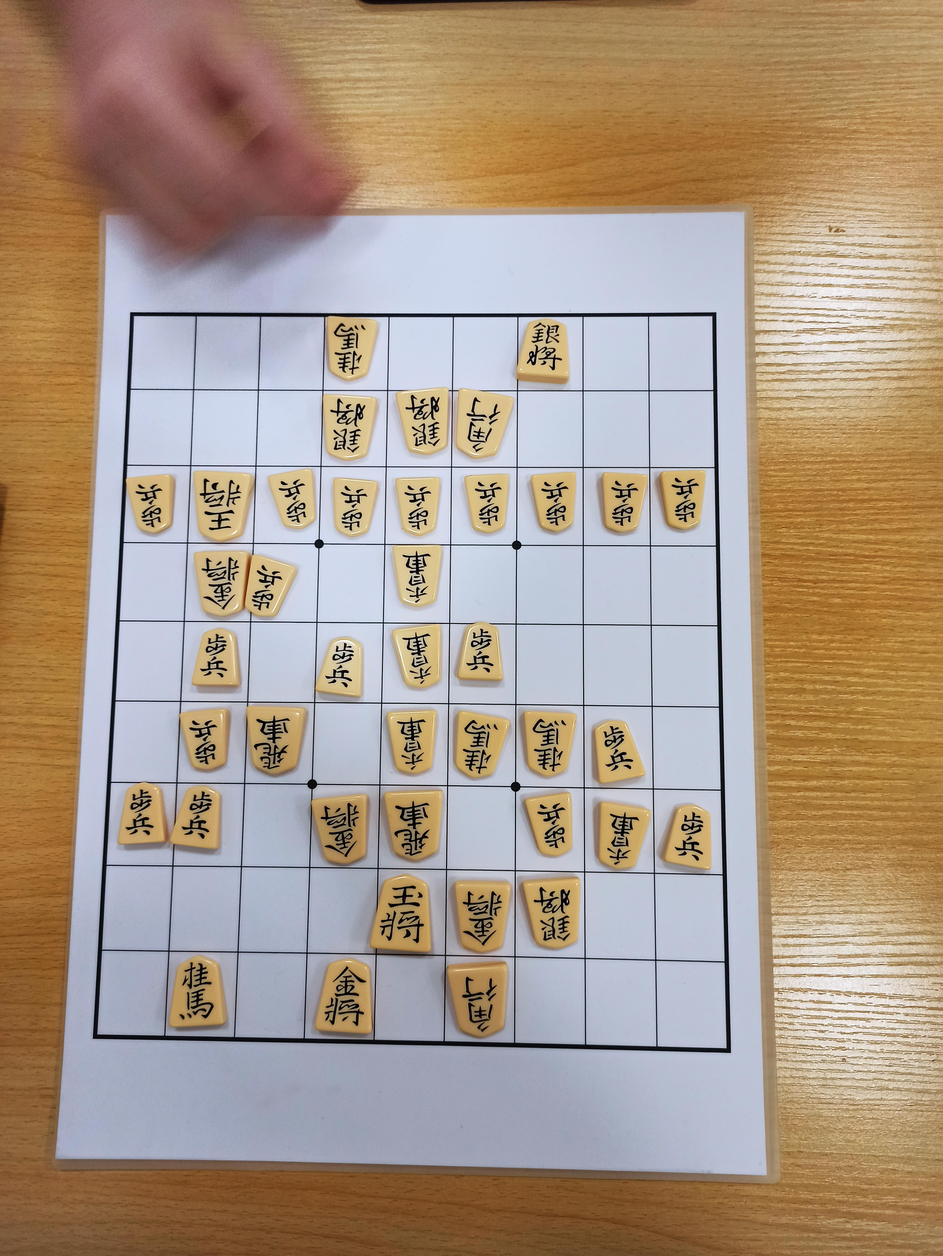board: (94, 313, 729, 1051)
